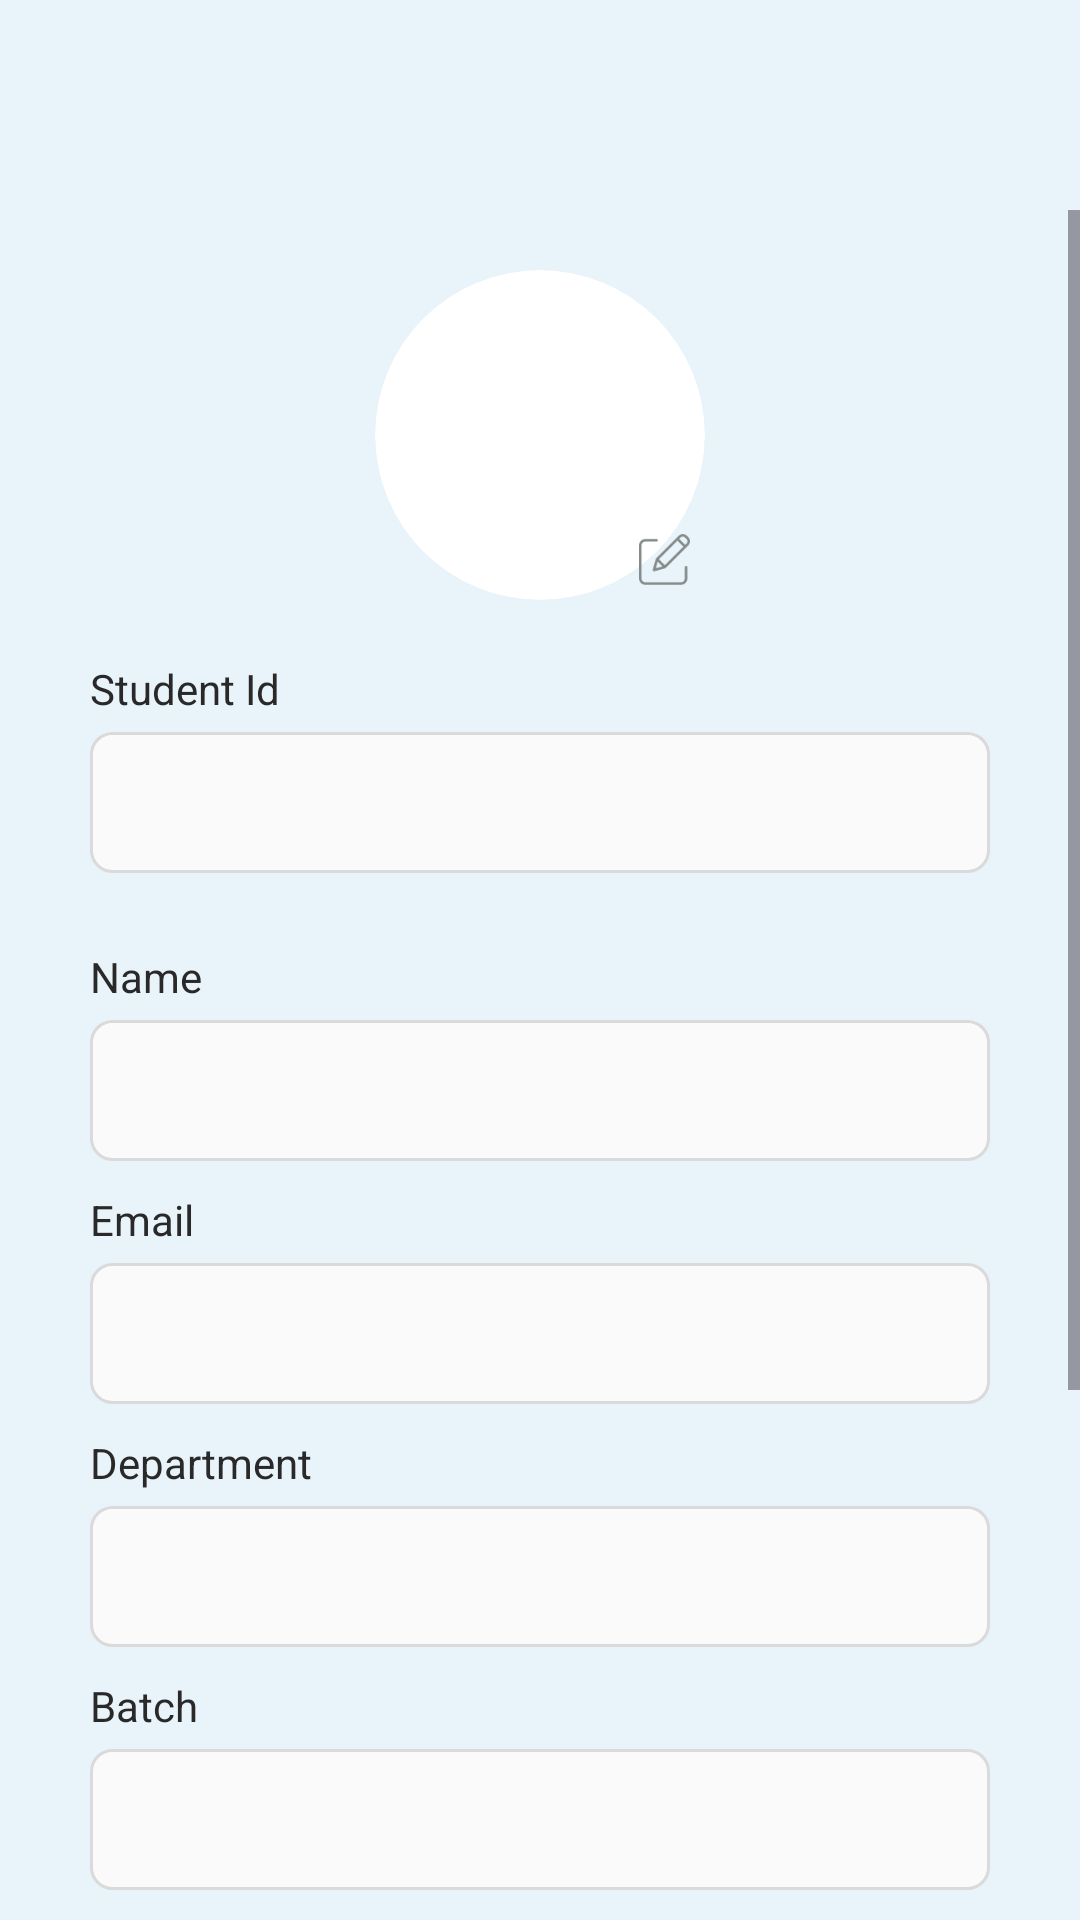

Locate icon controls on the screen. Image size 1080px x 1920px, boxes as {"x1": x1, "y1": y1, "x2": x2, "y2": y2}.
edit: {"x1": 639, "y1": 534, "x2": 690, "y2": 585}
